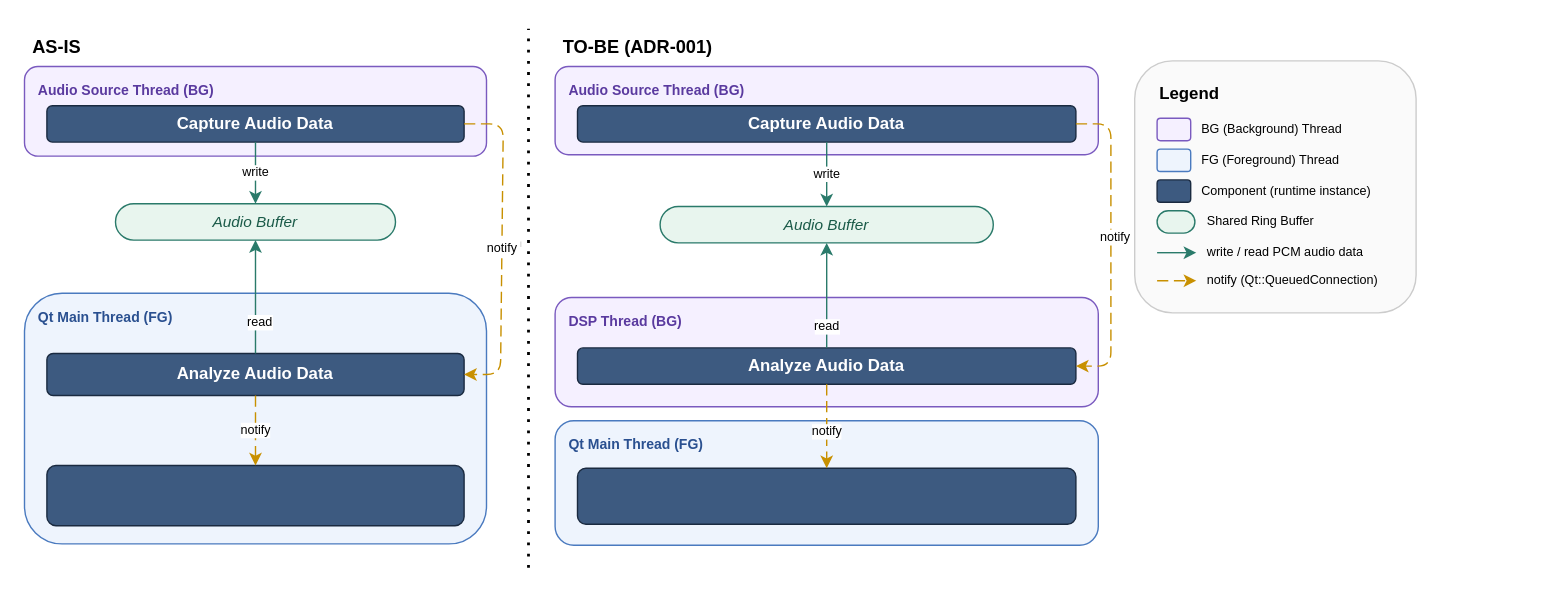
Image size: 1565x594. Some labels were removed from this diagram. Each missing label, with the centre of its shape:
"Render Data draw all tabs" belongs at point (255, 495).
"Render Data draw the tab visible only [ADR-002]" belongs at point (826, 495).
